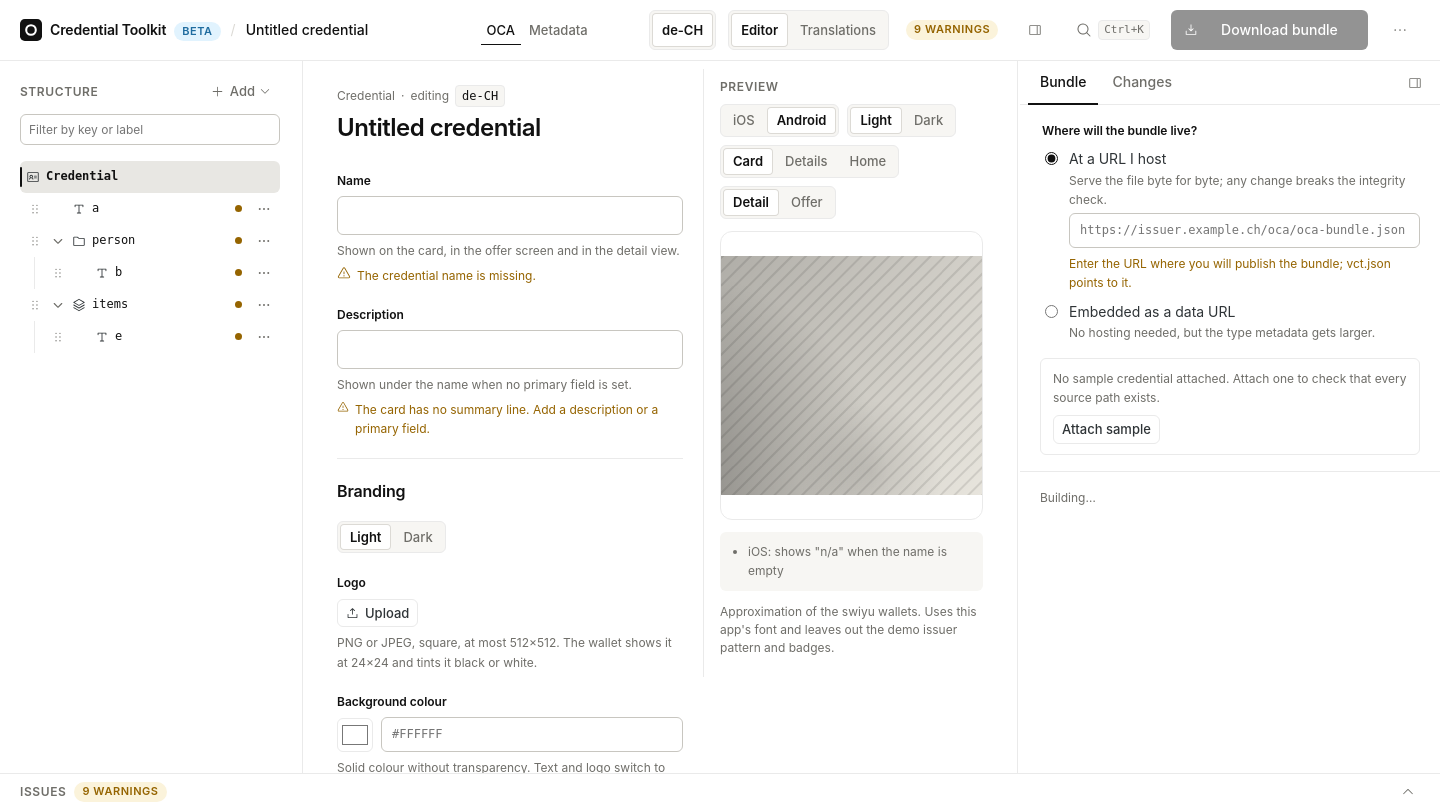
Test: the keyboard shortcuts dialog › opens from the ⋯ menu, focus going back to the menu button when it closes
Click the button named "More actions" at (1400,30), box [1380,10,1420,50]
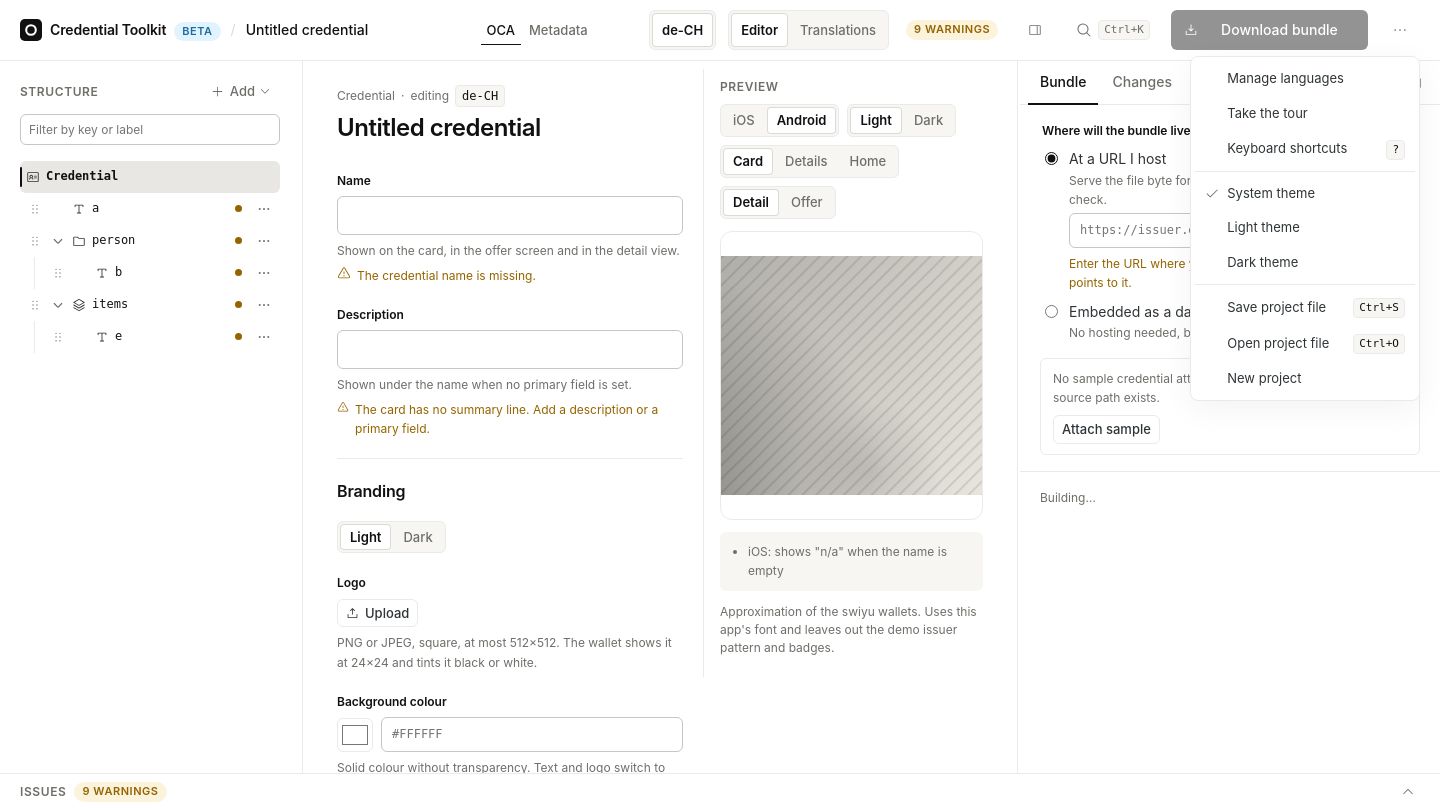
Click the menu item "Keyboard shortcuts ?" at (1305,149), box [1195,131,1415,167]
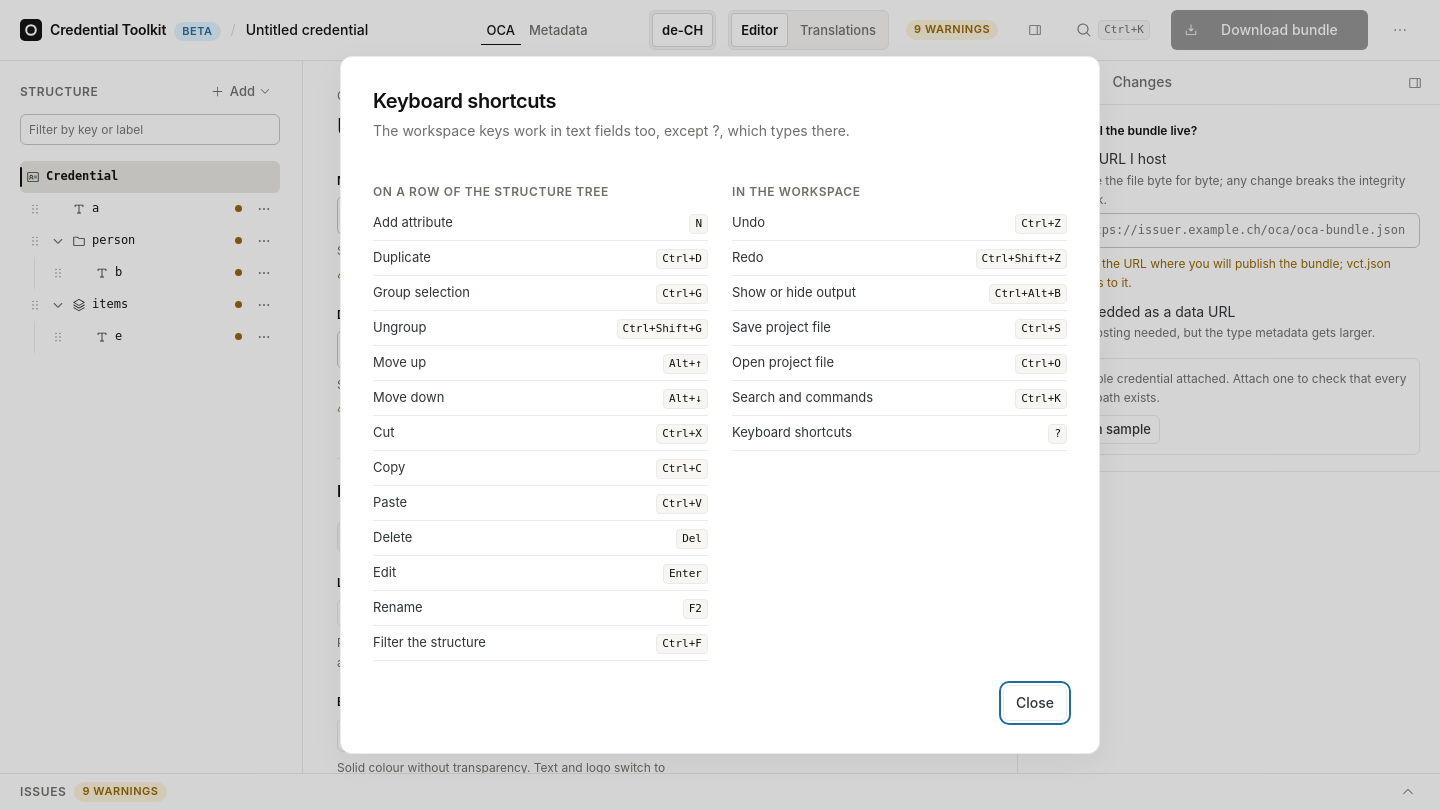
Expected: the dialog "Keyboard shortcuts" is shown, [340,56,1100,754]
Click the button "Close" at (1035,703), box [1003,685,1067,721]
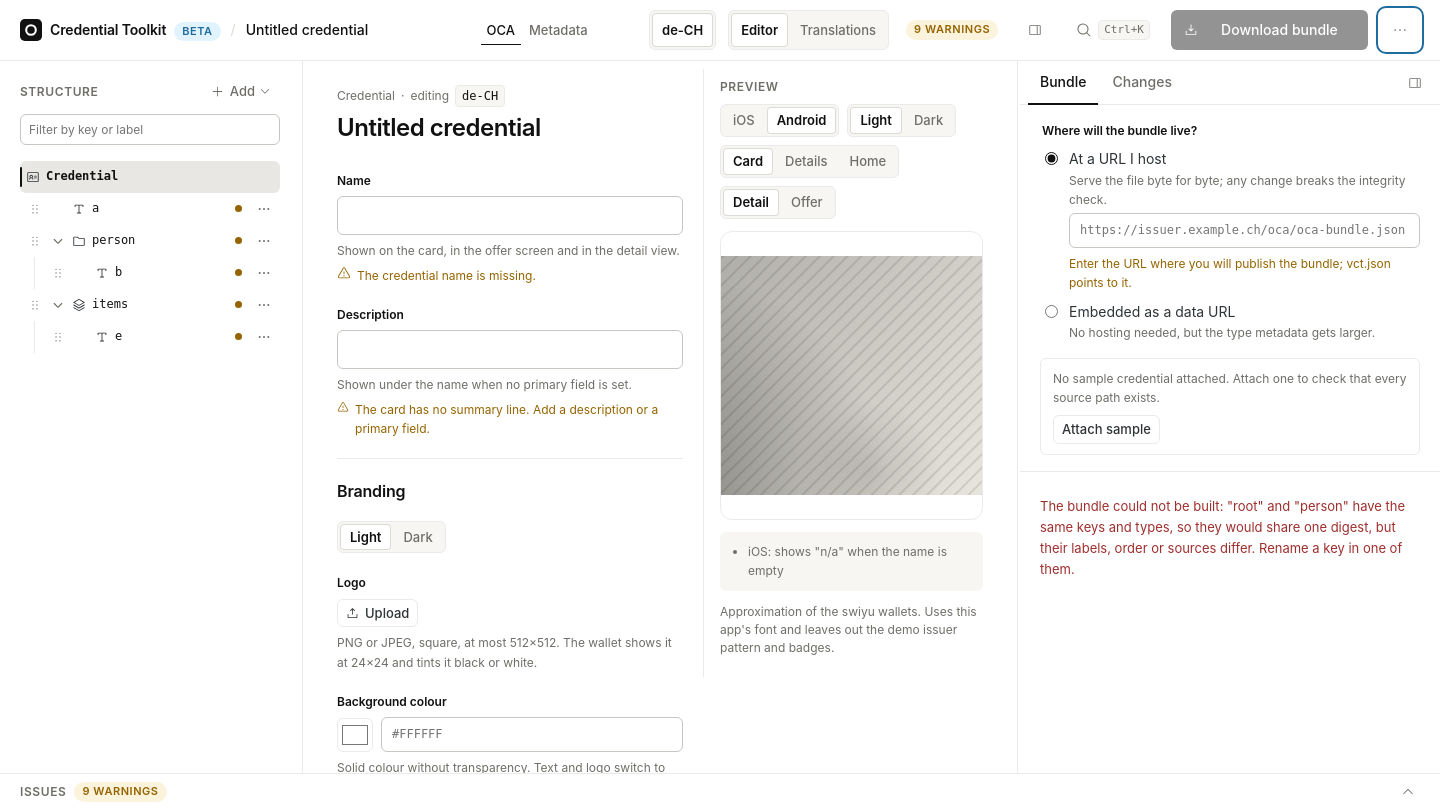
Expected: the heading "Keyboard shortcuts" is gone
